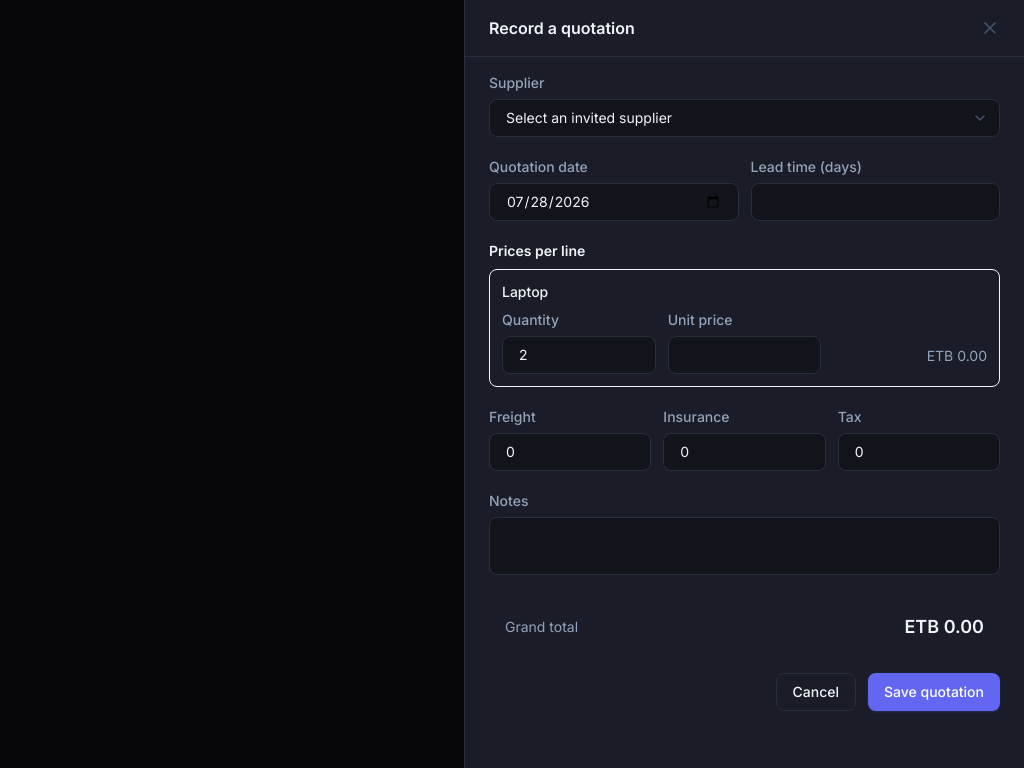
Test: BidFormDrawer › will not save without naming the supplier
The width and height of the screenshot is (1024, 768).
Type "500" into the number field labelled "Unit price" at (745, 355), box [668, 336, 821, 374]
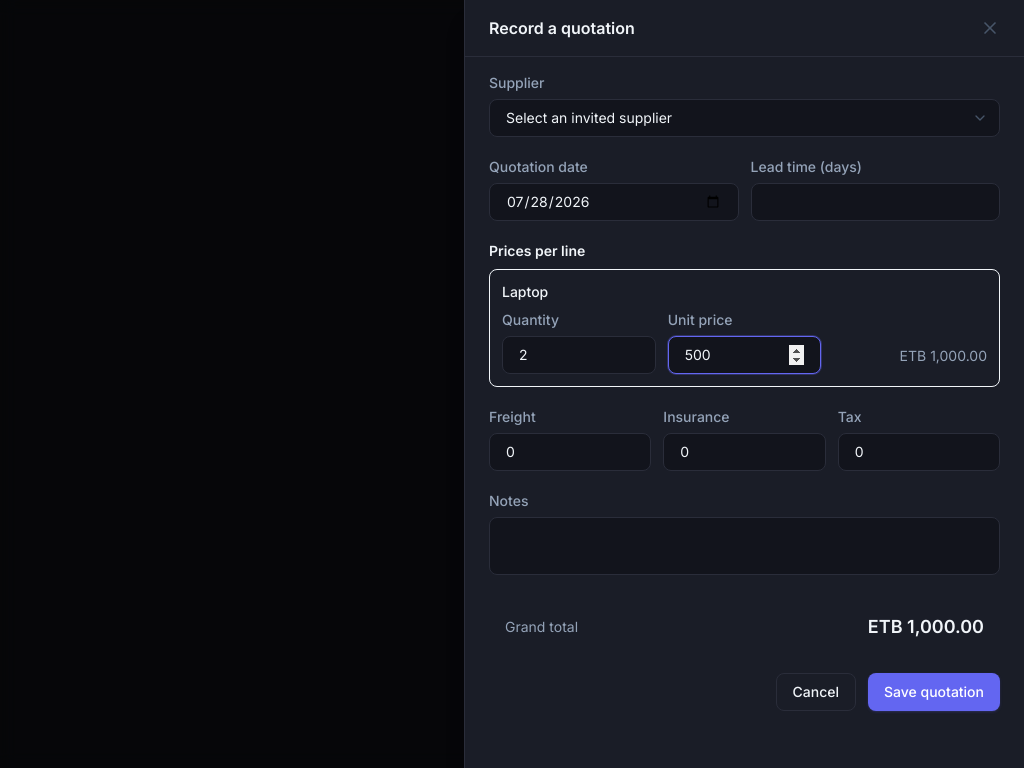
Click the button "Save quotation" at (934, 692), box [868, 673, 1000, 711]
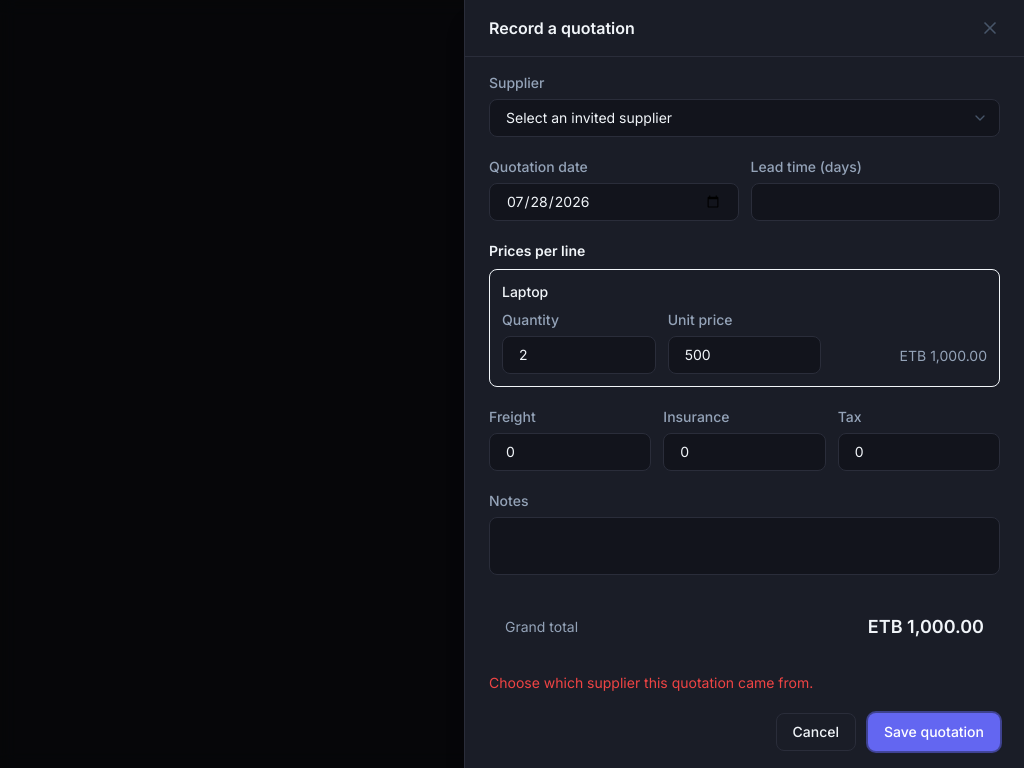
Check: the text "Choose which supplier this quotation came from." is shown, box [489, 674, 813, 691]
